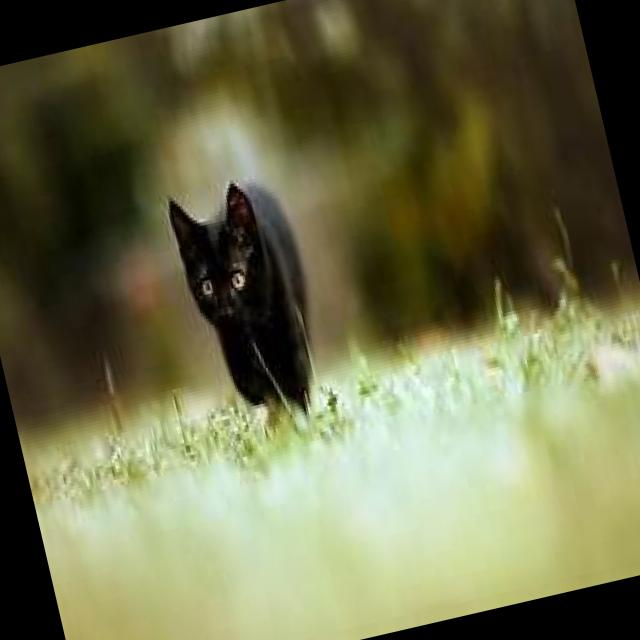animal: (162, 166, 338, 444)
